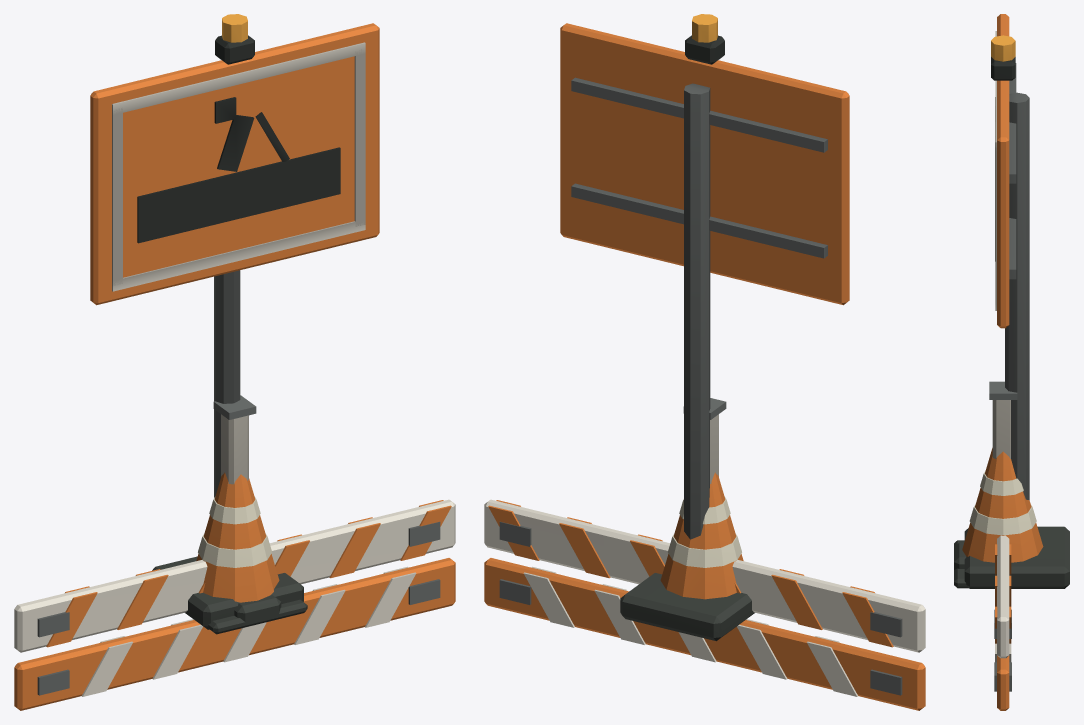
The model's file is incident-props.glb.
3 views of the same model, side by side, from view 1: azimuth 30°, elevation 25°; view 2: azimuth 150°, elevation 25°; view 3: azimuth 270°, elevation 25° (orthographic). The views are drawn at different scales.
Parts seen in each view (by area): view 1: WorksSign, BarricadeRails, Cone, BarricadePost; view 2: WorksSign, BarricadeRails, Cone, BarricadePost; view 3: WorksSign, Cone, BarricadeRails, BarricadePost.
Boxes of the visible parts, x1=… form: WorksSign: x1=90, y1=14, x2=379, y2=629; BarricadeRails: x1=14, y1=499, x2=455, y2=710; Cone: x1=196, y1=472, x2=307, y2=634; BarricadePost: x1=213, y1=395, x2=281, y2=623; WorksSign: x1=560, y1=14, x2=849, y2=641; BarricadeRails: x1=484, y1=499, x2=925, y2=710; Cone: x1=660, y1=472, x2=743, y2=599; BarricadePost: x1=683, y1=398, x2=726, y2=483; WorksSign: x1=964, y1=14, x2=1069, y2=588; Cone: x1=954, y1=448, x2=1043, y2=588; BarricadeRails: x1=994, y1=535, x2=1011, y2=710; BarricadePost: x1=954, y1=381, x2=1017, y2=569.
Size of the model in its own units: 2.6 by 3.61 by 0.66.
